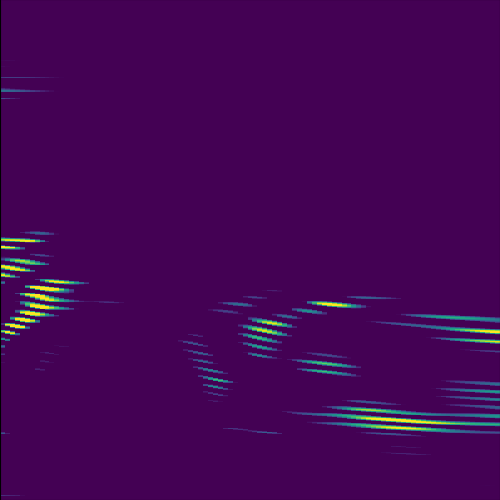semblance: (348, 405, 446, 437), (15, 276, 89, 304), (1, 256, 56, 282), (1, 235, 46, 253)
